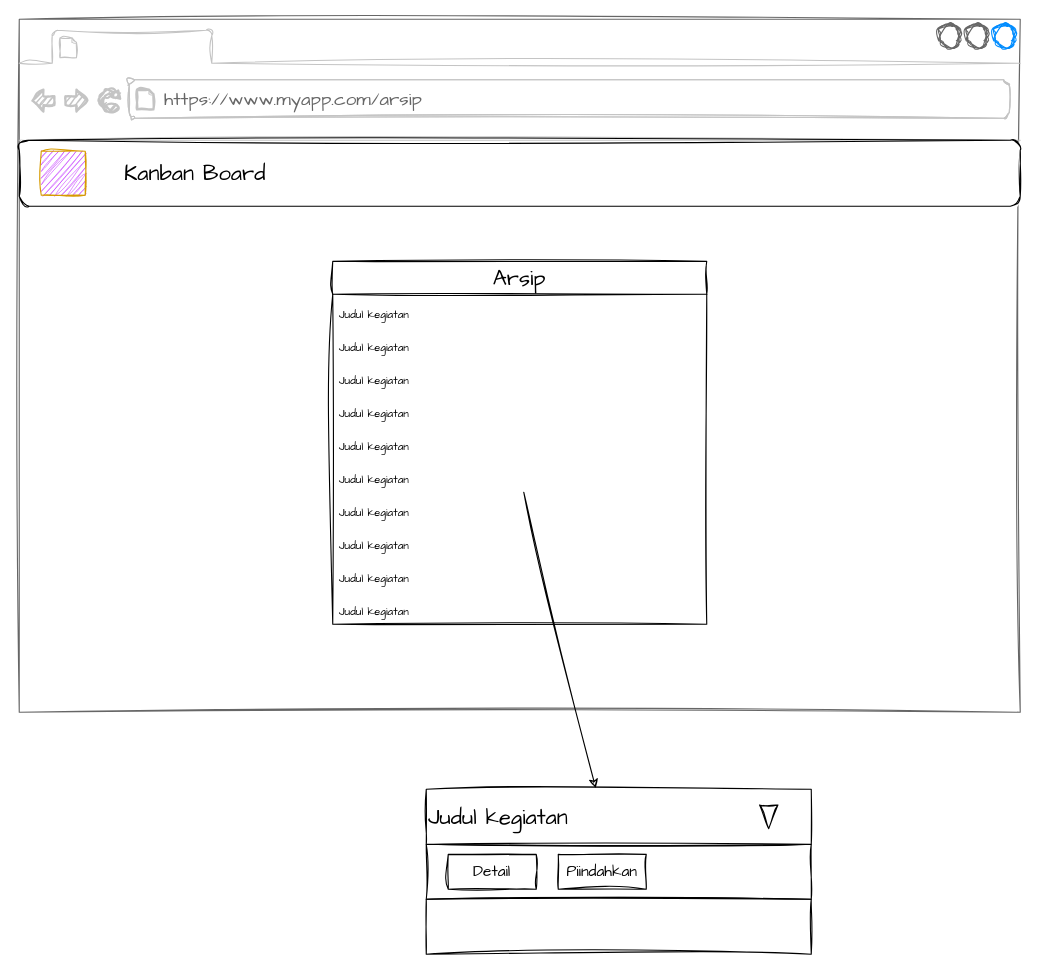
Image size: 1040x974. Some labels were removed from this diagram. Each missing label, with the centre of its shape:
"Log terbaru" goes at [618,926].
"Page 1" goes at [145,46].
